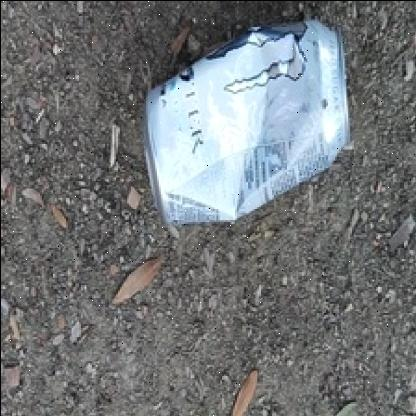Can: (137, 13, 347, 226), (416, 415, 416, 416)
